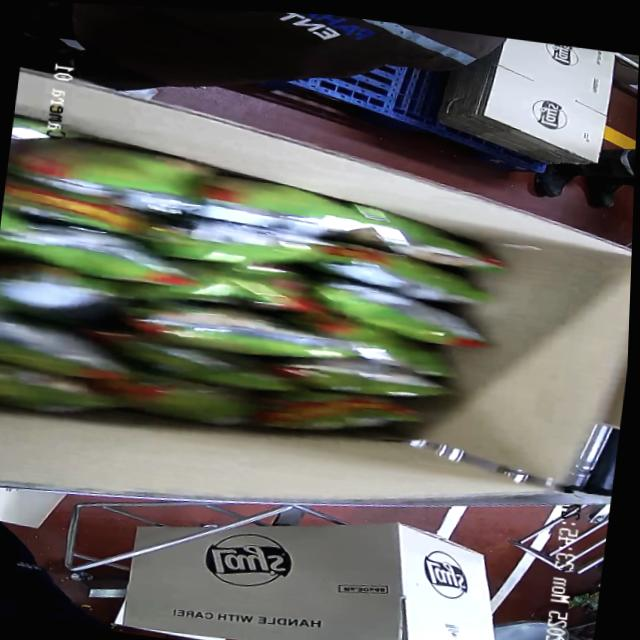YOGURT_HERB: (0, 137, 493, 458)
